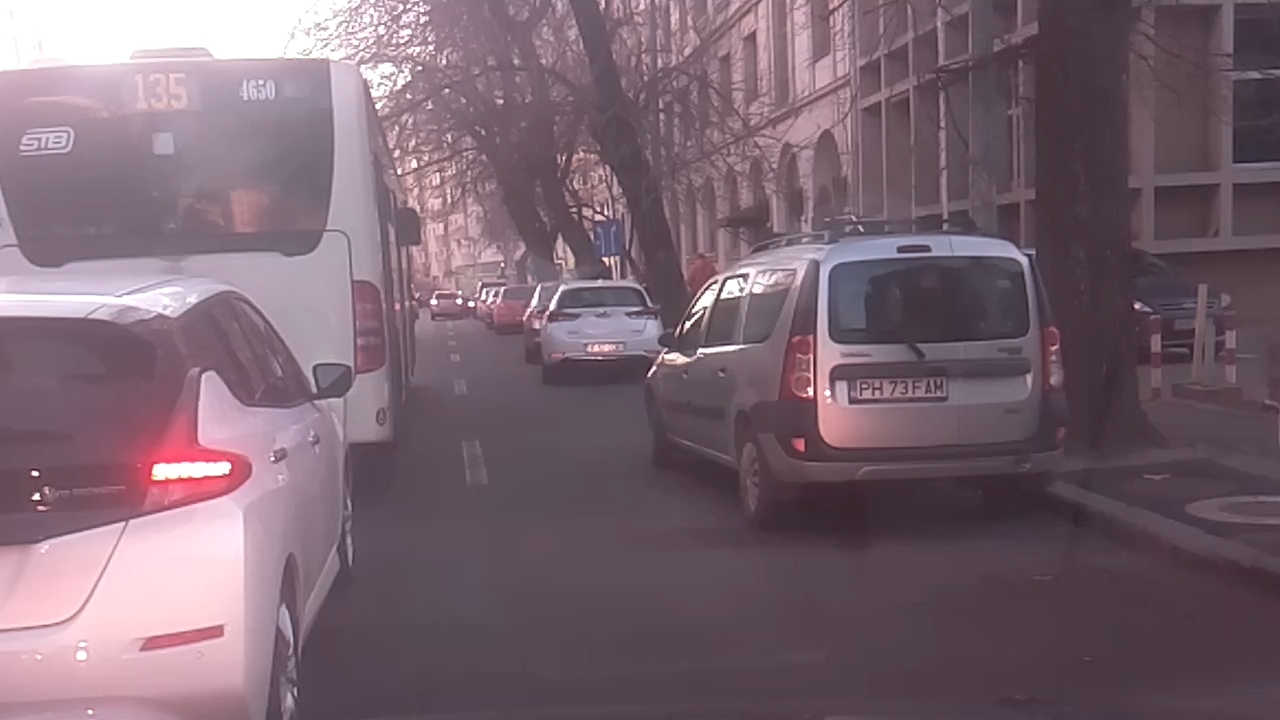license-plate: (845, 373, 950, 403)
